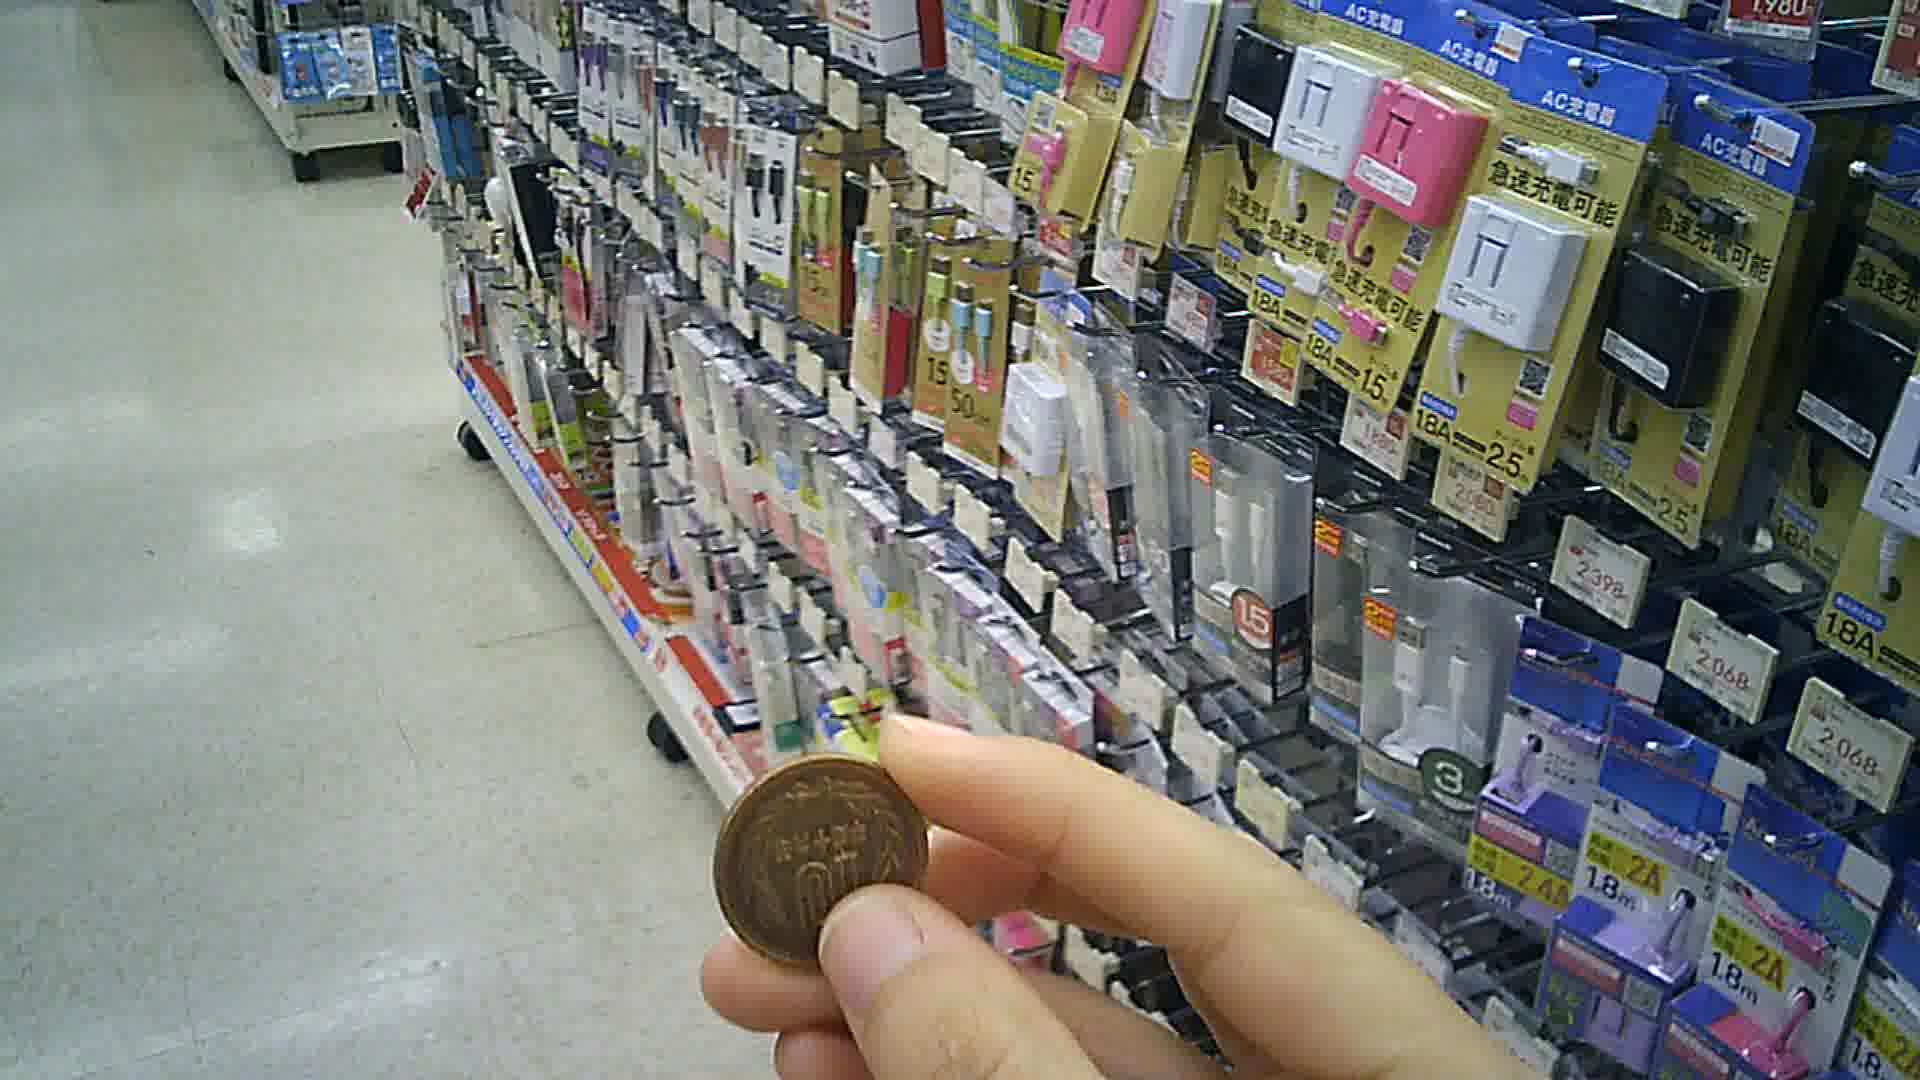10 Yen: (705, 752, 961, 984)
